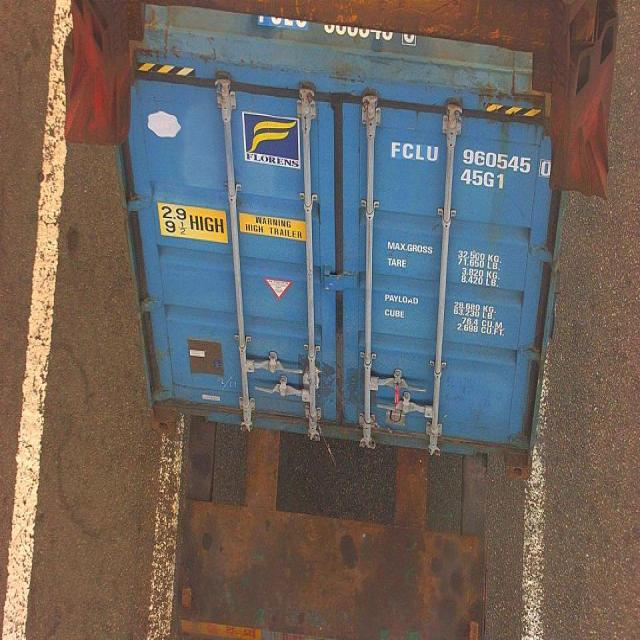ISO: (460, 171, 506, 189)
container_number: (389, 137, 550, 175)
